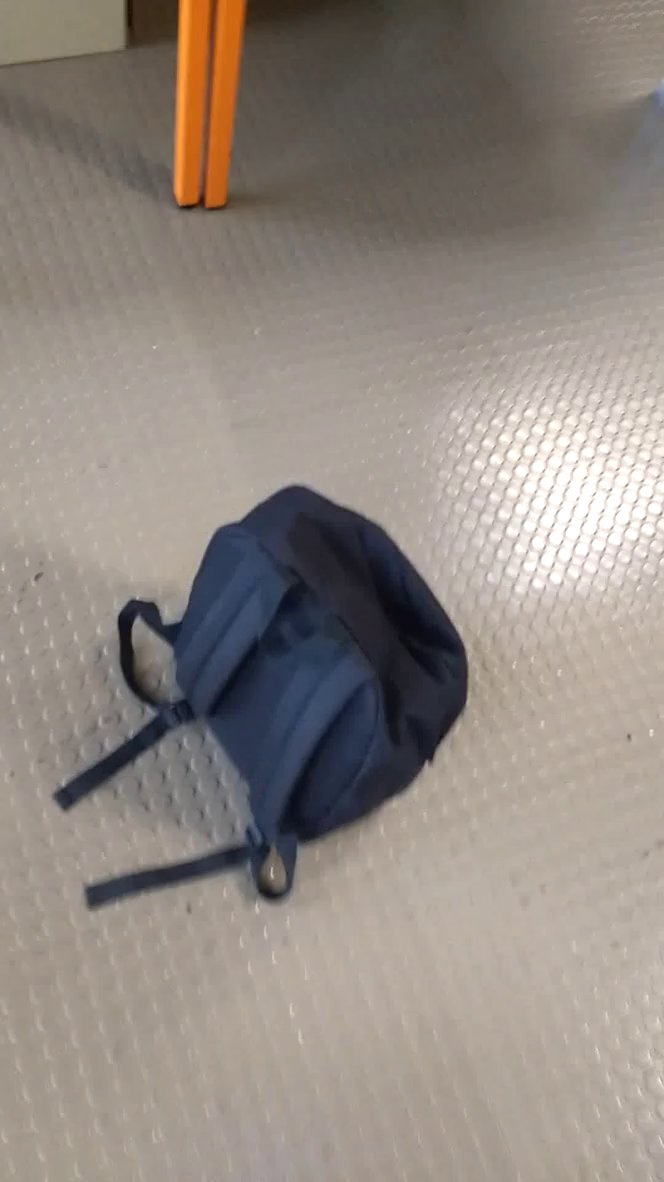bag: (52, 472, 482, 924)
